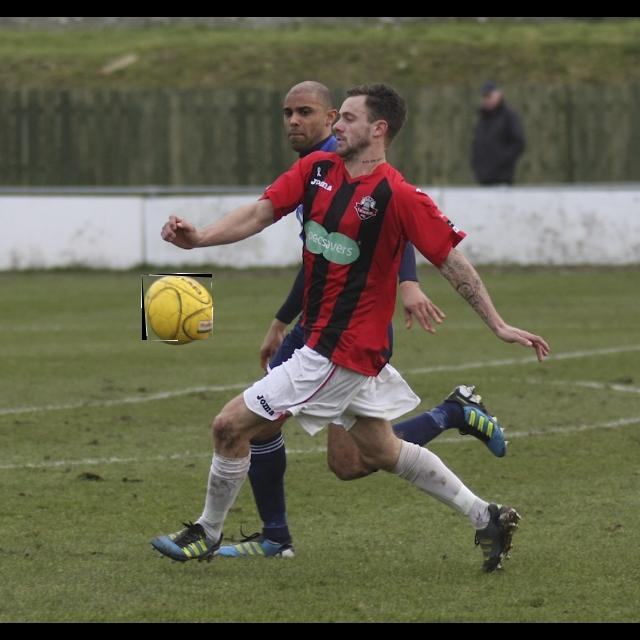Football: (142, 274, 212, 340)
